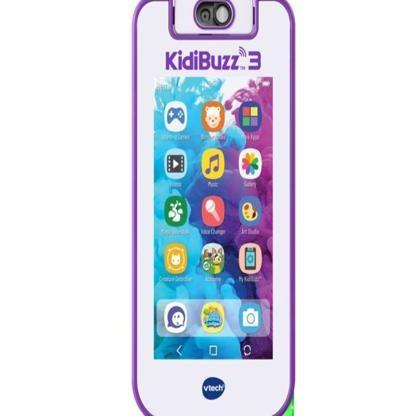not trash: (125, 0, 298, 412)
